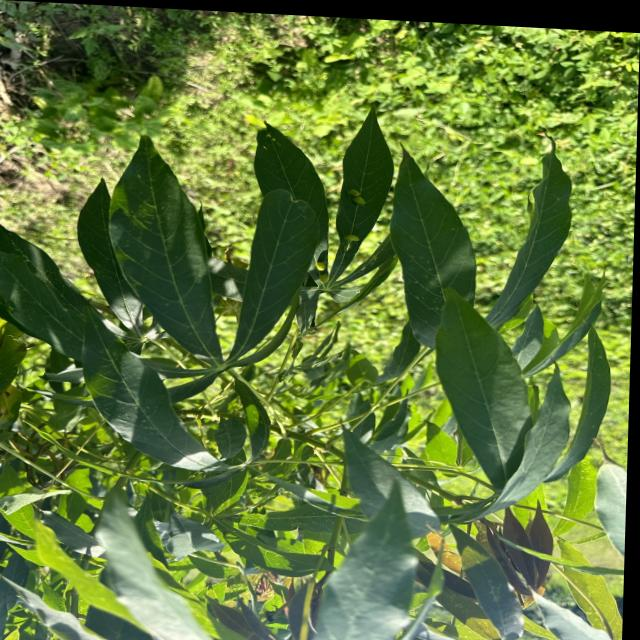Maleza: (396, 16, 624, 147), (30, 12, 248, 148)
Mosca: (304, 248, 343, 294), (339, 181, 365, 218), (334, 229, 356, 257)
